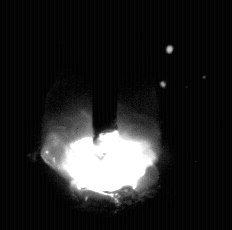arame: (93, 0, 119, 146)
poca: (42, 0, 161, 230)
